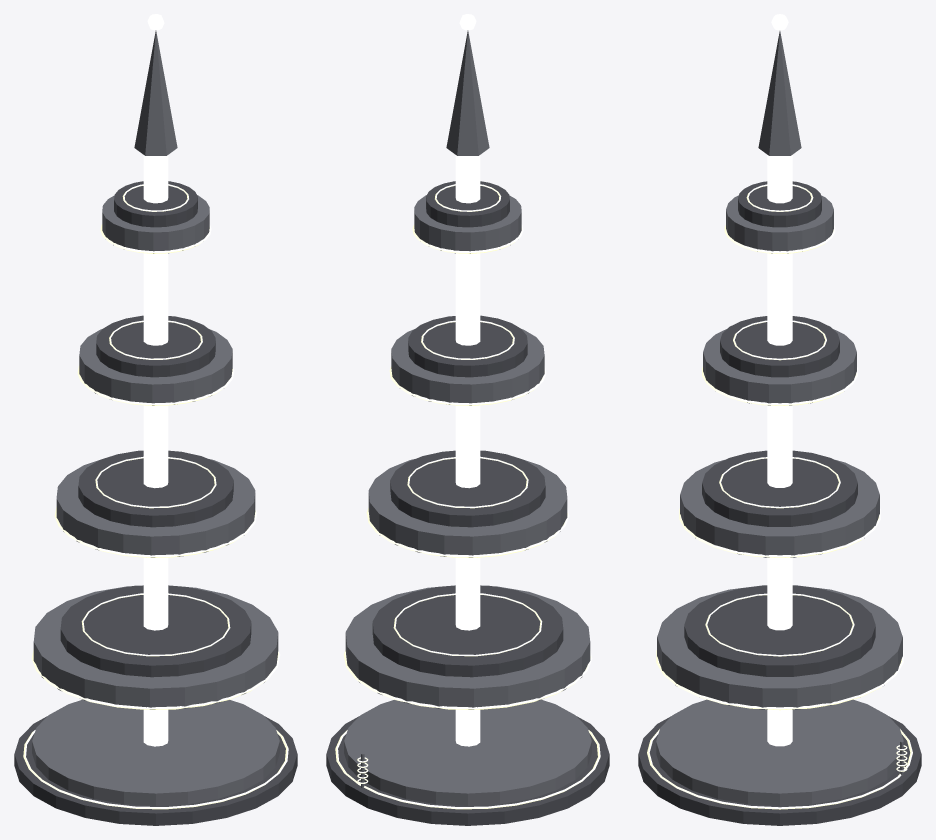
File: zone_high_2_t5.glb
3 renders of one model, left to right at view 1: azimuth 30°, elevation 25°; view 2: azimuth 150°, elevation 25°; view 3: azimuth 270°, elevation 25°, orthographic.
Visible parts, largest first — view 1: zone_high_2_t5, detail; view 2: zone_high_2_t5, detail; view 3: zone_high_2_t5, detail.
Part boxes in pixels (<box>): zone_high_2_t5: <box>14,14,297,825</box>; detail: <box>81,184,230,656</box>; zone_high_2_t5: <box>326,14,609,825</box>; detail: <box>357,184,542,788</box>; zone_high_2_t5: <box>638,14,921,825</box>; detail: <box>705,184,907,775</box>.
Bounding box in the file's own units: 28.8 × 84.42 × 28.8.
